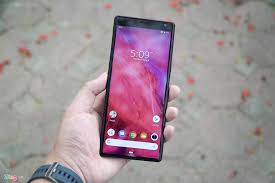sony: (98, 13, 178, 163)
